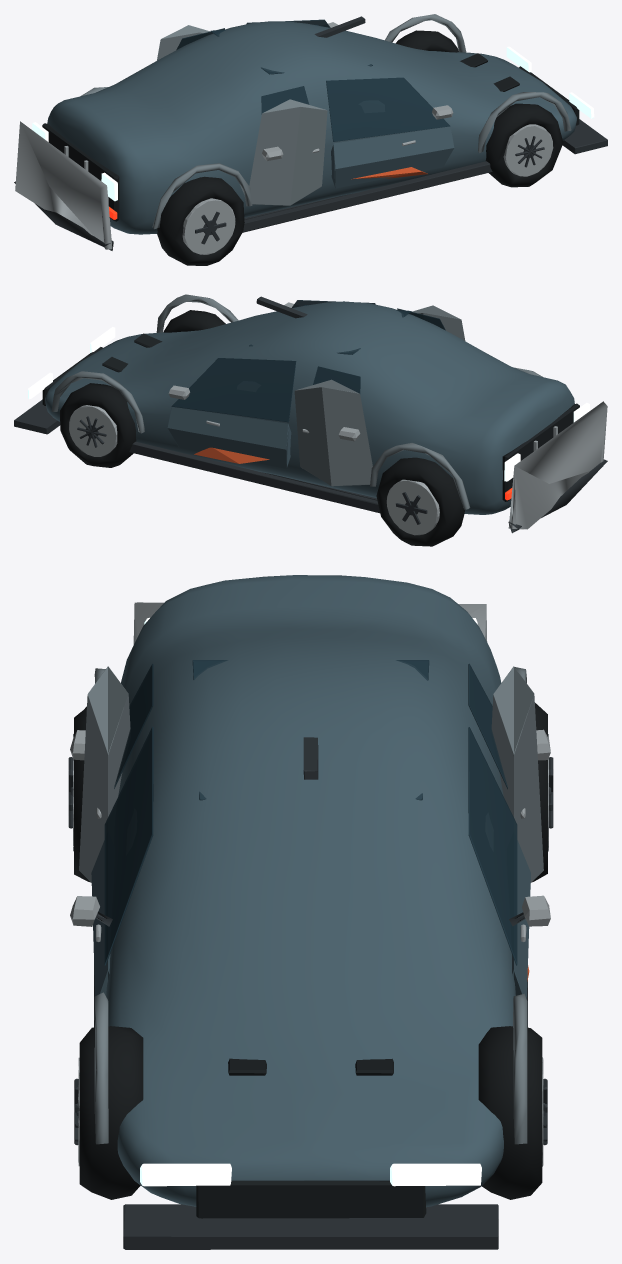
Rendered from deadbolt_blueprint_LOD2.glb.
3 views of the same model, one above another, from view 1: azimuth 30°, elevation 25°; view 2: azimuth 150°, elevation 25°; view 3: azimuth 270°, elevation 25° (orthographic). The views are drawn at different scales.
Parts seen in each view (by area): view 1: Body_DeadboltUnifiedShell.001, Panel_TruckDoor_R.001, Truck_BrushGuard.001, Glass_CoupeSide_R.001, Panel_CoupeDoor_R.001, Wheel_Truck_Tire_-1.001, Detail_Rocker_R.001, Wheel_Coupe_Tire_-1.001, Wheel_Truck_Rim_-1.001, Wheel_Coupe_Rim_-1.001, Truck_Grille.001, FenderLip_Truck_-1.001 (+9 smaller); view 2: Body_DeadboltUnifiedShell.001, Panel_TruckDoor_L.001, Truck_BrushGuard.001, Glass_CoupeSide_L.001, Panel_CoupeDoor_L.001, Wheel_Truck_Tire_+1.001, Wheel_Coupe_Tire_+1.001, Detail_Rocker_L.001, Wheel_Truck_Rim_+1.001, Wheel_Coupe_Rim_+1.001, Truck_Grille.001, FenderLip_Truck_+1.001 (+9 smaller); view 3: Body_DeadboltUnifiedShell.001, Coupe_Splitter.001, Coupe_Grille.001, Wheel_Coupe_Tire_-1.001, Wheel_Coupe_Tire_+1.001, Panel_TruckDoor_L.001, Panel_TruckDoor_R.001, Glass_CoupeSide_R.001, Glass_CoupeSide_L.001, FenderLip_Coupe_+1.001, FenderLip_Coupe_-1.001, Coupe_Headlight_-0.001 (+8 smaller).
Part boxes in pixels (x1,y1,x2,y2): Body_DeadboltUnifiedShell.001: (47, 21, 576, 234); Panel_TruckDoor_R.001: (249, 99, 327, 205); Truck_BrushGuard.001: (15, 121, 112, 249); Glass_CoupeSide_R.001: (326, 77, 450, 141); Panel_CoupeDoor_R.001: (331, 126, 454, 188); Wheel_Truck_Tire_-1.001: (157, 176, 244, 265); Detail_Rocker_R.001: (242, 161, 492, 232); Wheel_Coupe_Tire_-1.001: (485, 103, 563, 187); Wheel_Truck_Rim_-1.001: (182, 198, 235, 254); Wheel_Coupe_Rim_-1.001: (503, 124, 553, 176); Truck_Grille.001: (42, 123, 119, 221); FenderLip_Truck_-1.001: (152, 163, 252, 229); Body_DeadboltUnifiedShell.001: (45, 301, 574, 514); Panel_TruckDoor_L.001: (294, 379, 372, 486); Truck_BrushGuard.001: (508, 401, 607, 529); Glass_CoupeSide_L.001: (171, 358, 296, 422); Panel_CoupeDoor_L.001: (167, 407, 291, 468); Wheel_Truck_Tire_+1.001: (376, 457, 464, 546); Wheel_Coupe_Tire_+1.001: (60, 383, 136, 467); Detail_Rocker_L.001: (129, 441, 379, 513); Wheel_Truck_Rim_+1.001: (386, 479, 439, 535); Wheel_Coupe_Rim_+1.001: (69, 405, 117, 456); Truck_Grille.001: (502, 403, 579, 501); FenderLip_Truck_+1.001: (370, 443, 470, 509); Body_DeadboltUnifiedShell.001: (106, 575, 515, 1207); Coupe_Splitter.001: (123, 1204, 498, 1249); Coupe_Grille.001: (196, 1180, 426, 1218); Wheel_Coupe_Tire_-1.001: (79, 1026, 143, 1199); Wheel_Coupe_Tire_+1.001: (478, 1026, 542, 1199); Panel_TruckDoor_L.001: (491, 666, 543, 882); Panel_TruckDoor_R.001: (79, 666, 130, 882); Glass_CoupeSide_R.001: (104, 727, 153, 965); Glass_CoupeSide_L.001: (468, 727, 517, 965); FenderLip_Coupe_+1.001: (513, 993, 527, 1144); FenderLip_Coupe_-1.001: (94, 992, 108, 1144); Coupe_Headlight_-0.001: (140, 1163, 231, 1186).
Size of the model in its own units: 5.33 by 1.61 by 2.21.
